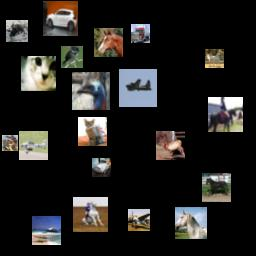airplane: (119, 69, 157, 107), (19, 131, 48, 160), (128, 209, 150, 231)
automobile: (43, 1, 78, 36), (92, 158, 111, 177)
bird: (72, 72, 110, 110), (61, 46, 83, 68)
cat: (21, 56, 56, 91), (78, 117, 107, 146), (6, 20, 28, 42)
deer: (156, 131, 185, 160)
dog: (2, 135, 18, 151)
ship: (32, 216, 61, 245)
truck: (131, 24, 150, 43)
